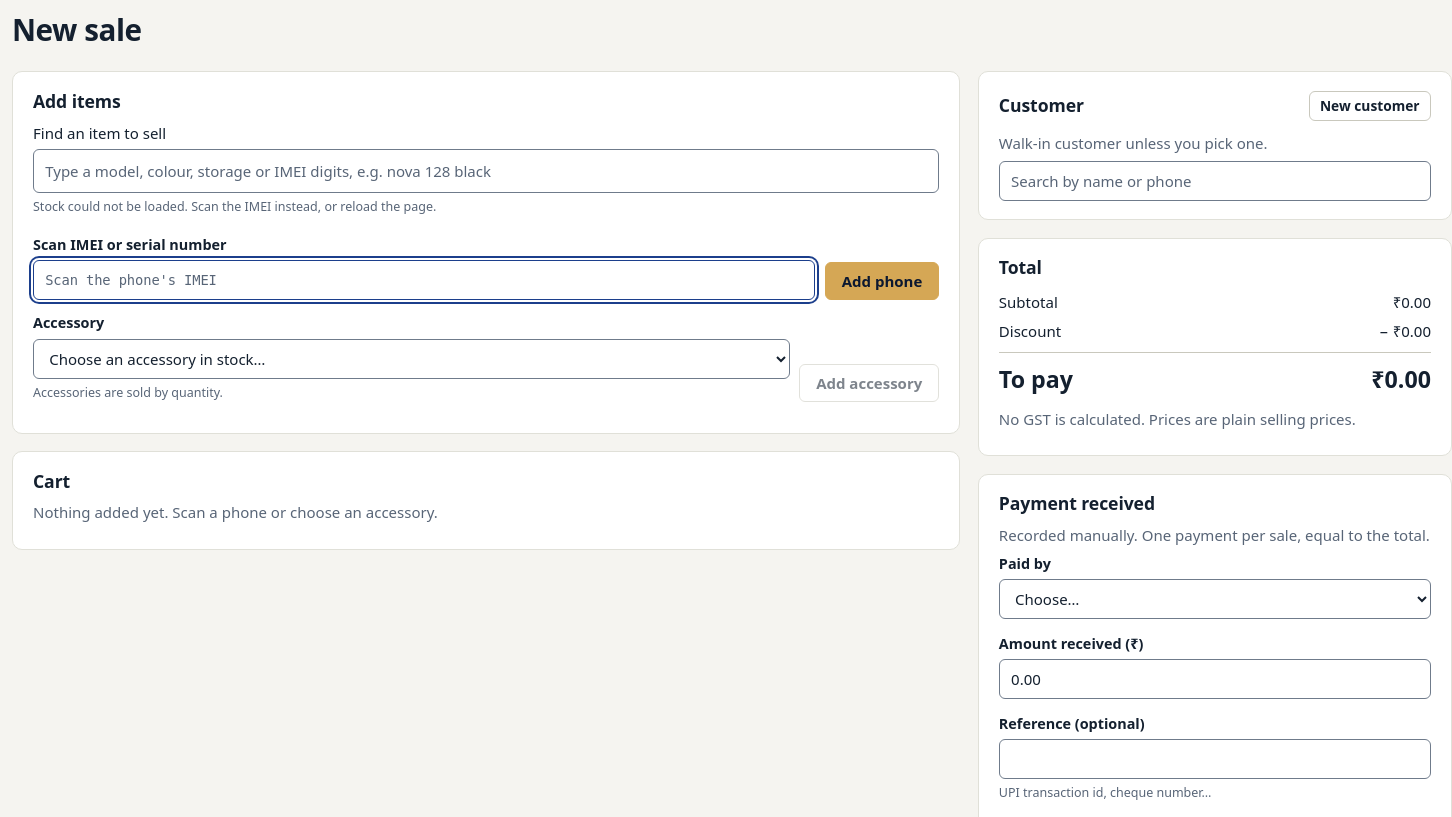
Test: POS: discounts › a discount inside the seller's configured limit needs only a reason
This screenshot has width=1452, height=817.
Type "490154203237518" into the field labelled "Scan IMEI or serial number" at [424, 280], box [33,260,815,300]
Then press Enter
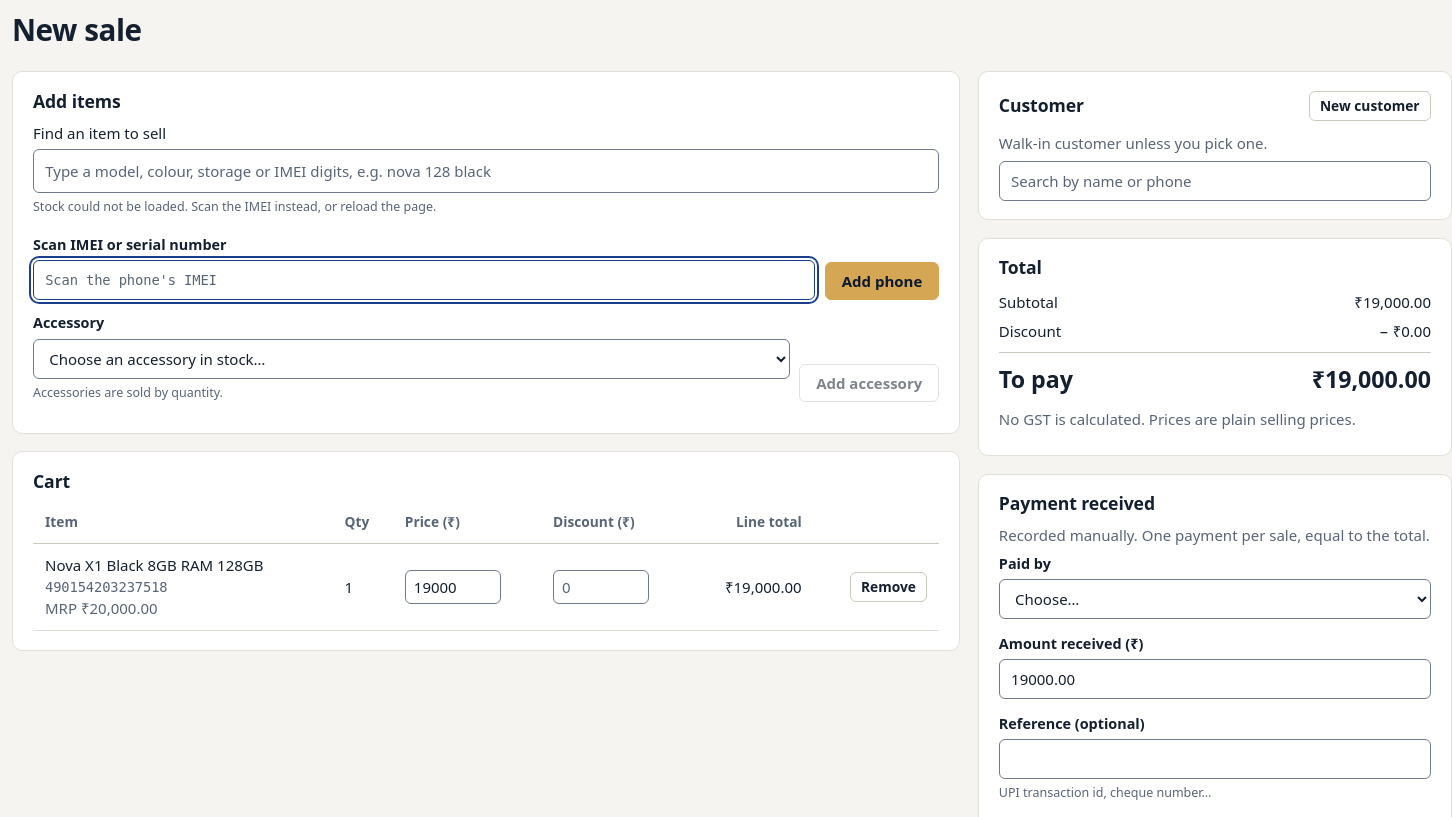
Type "950" into the field named "Discount for NOVA-X1" at [601, 587], box [553,570,649,604]
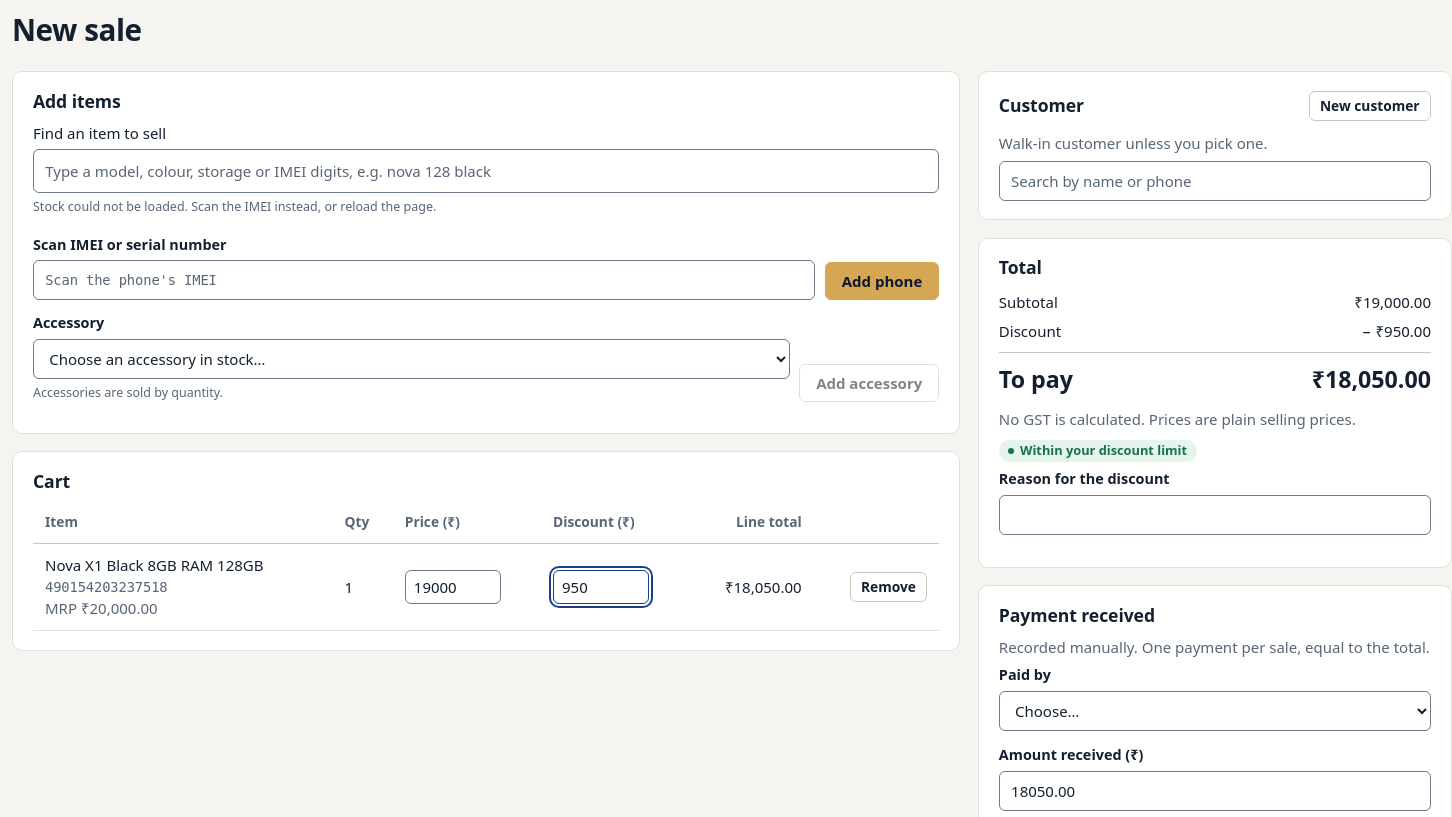
Check: the text "Within your discount limit" is shown, box [999,440,1197,462]
Type ".01" into the field named "Discount for NOVA-X1" at [601, 587], box [553,570,649,604]
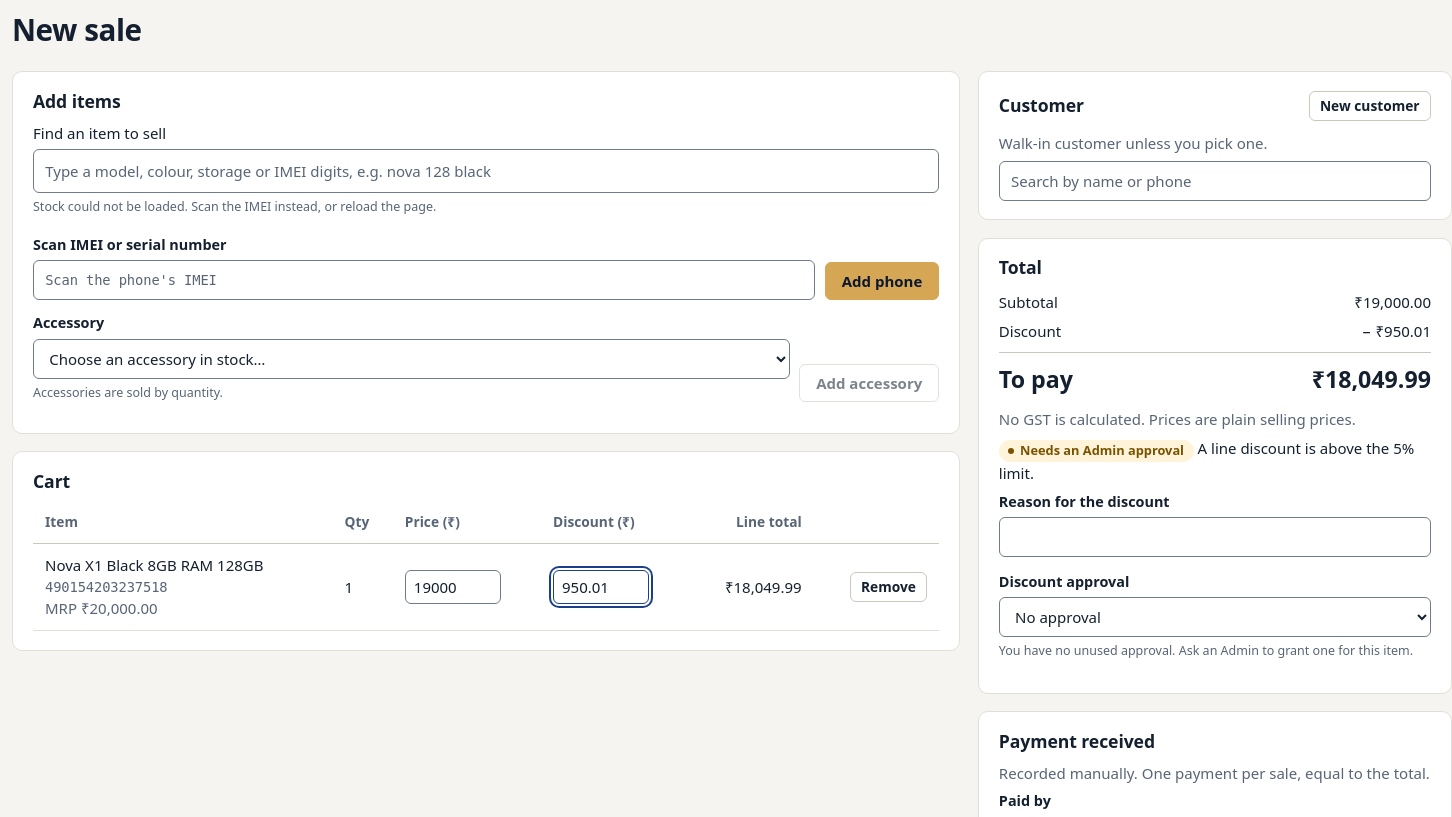
Check: the text "Needs an Admin approval" is shown, box [999,440,1194,462]
